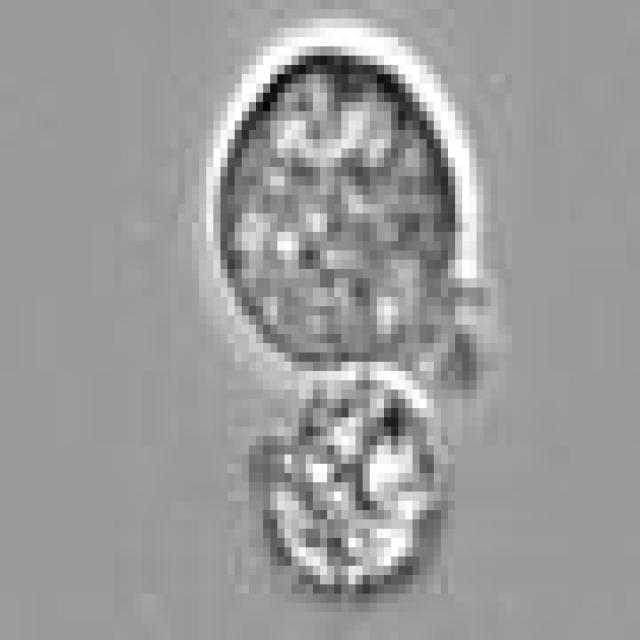Cancer Cell: (220, 46, 470, 371)
WBC: (263, 362, 441, 584)
